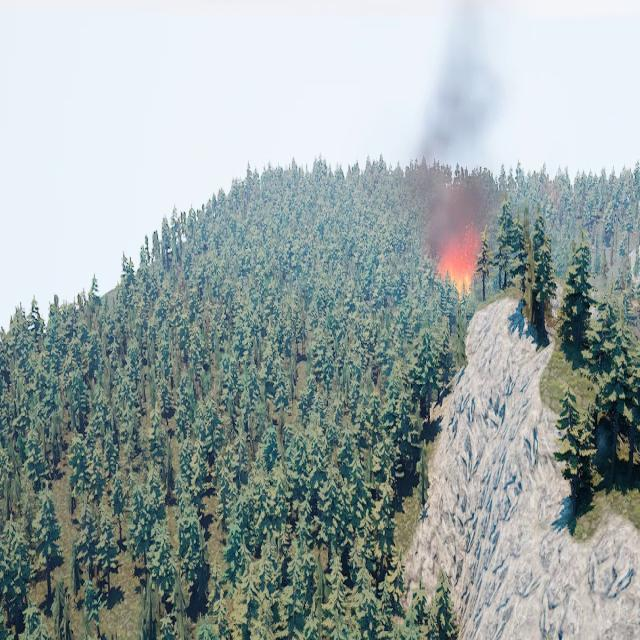fire: (436, 243, 478, 300)
smoke: (402, 16, 502, 270)
